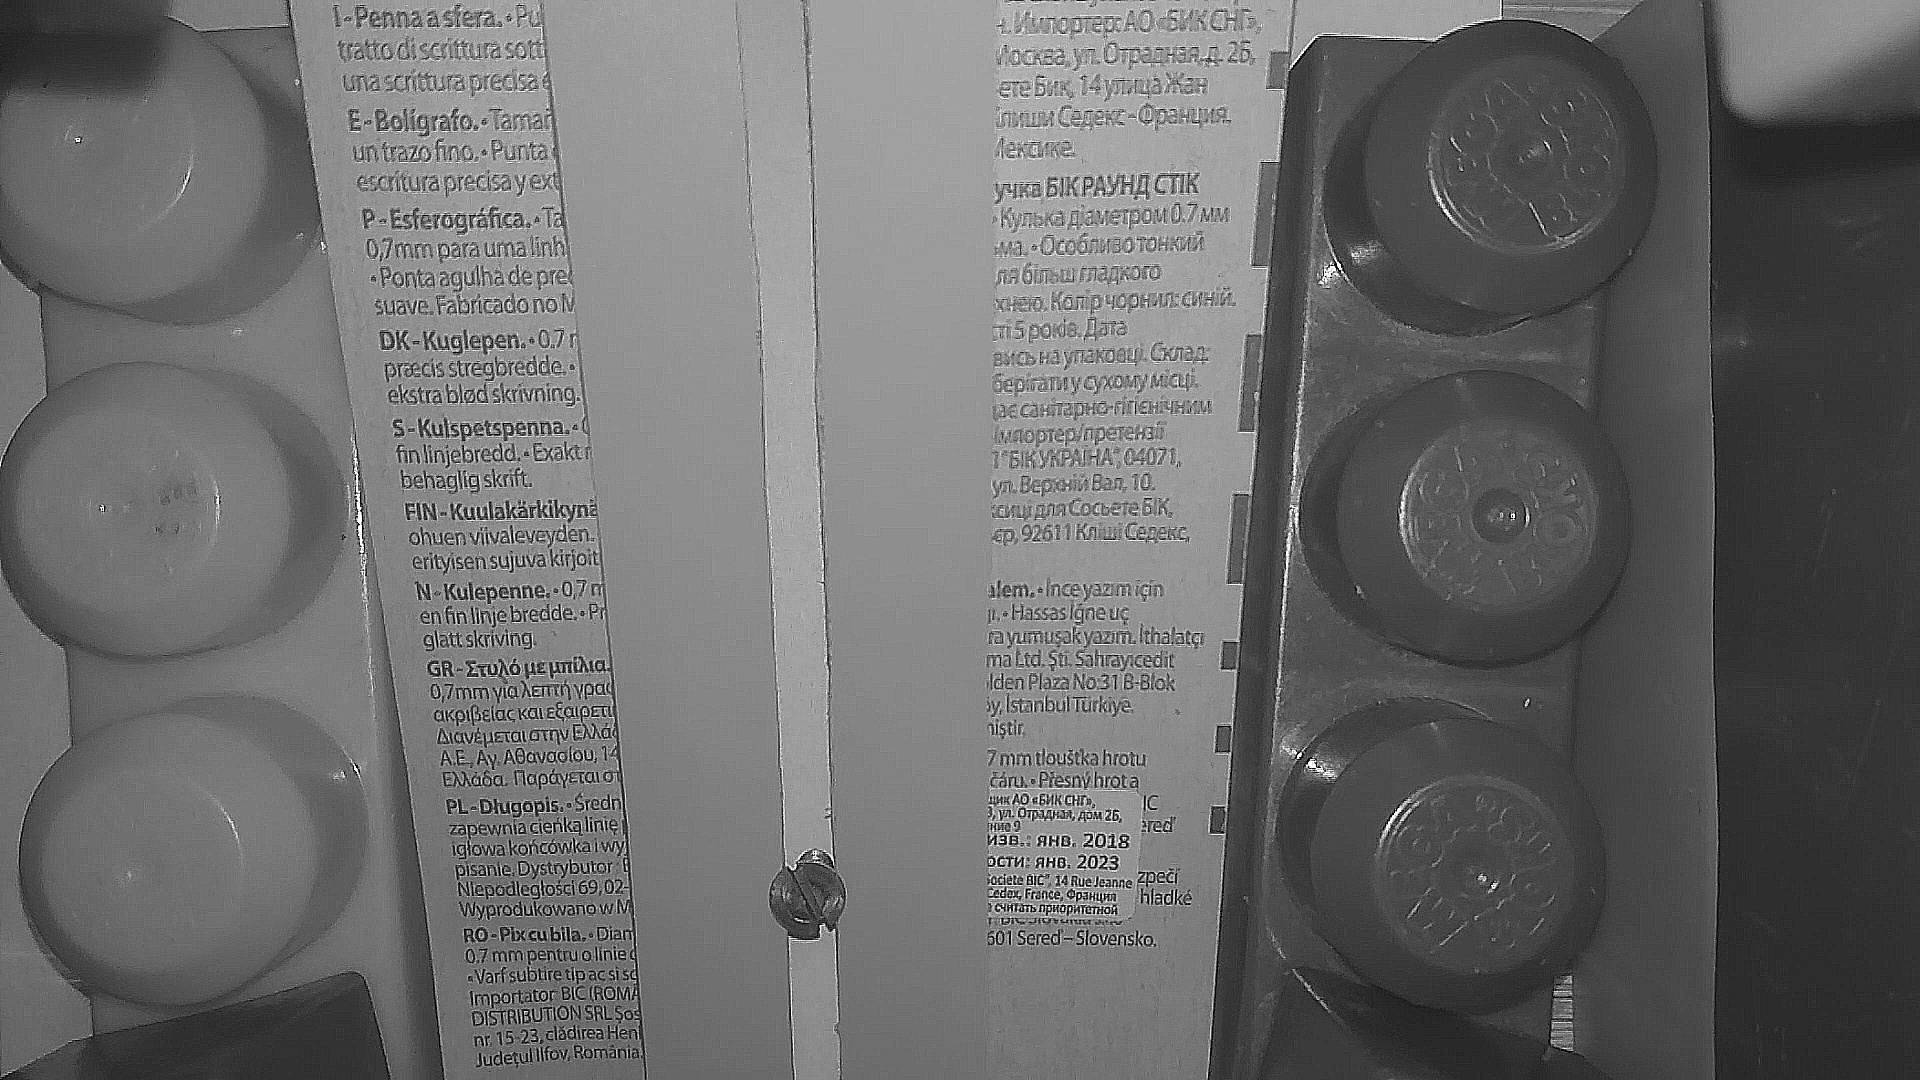i: (770, 861, 845, 939)
